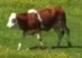cow: (7, 6, 71, 50)
